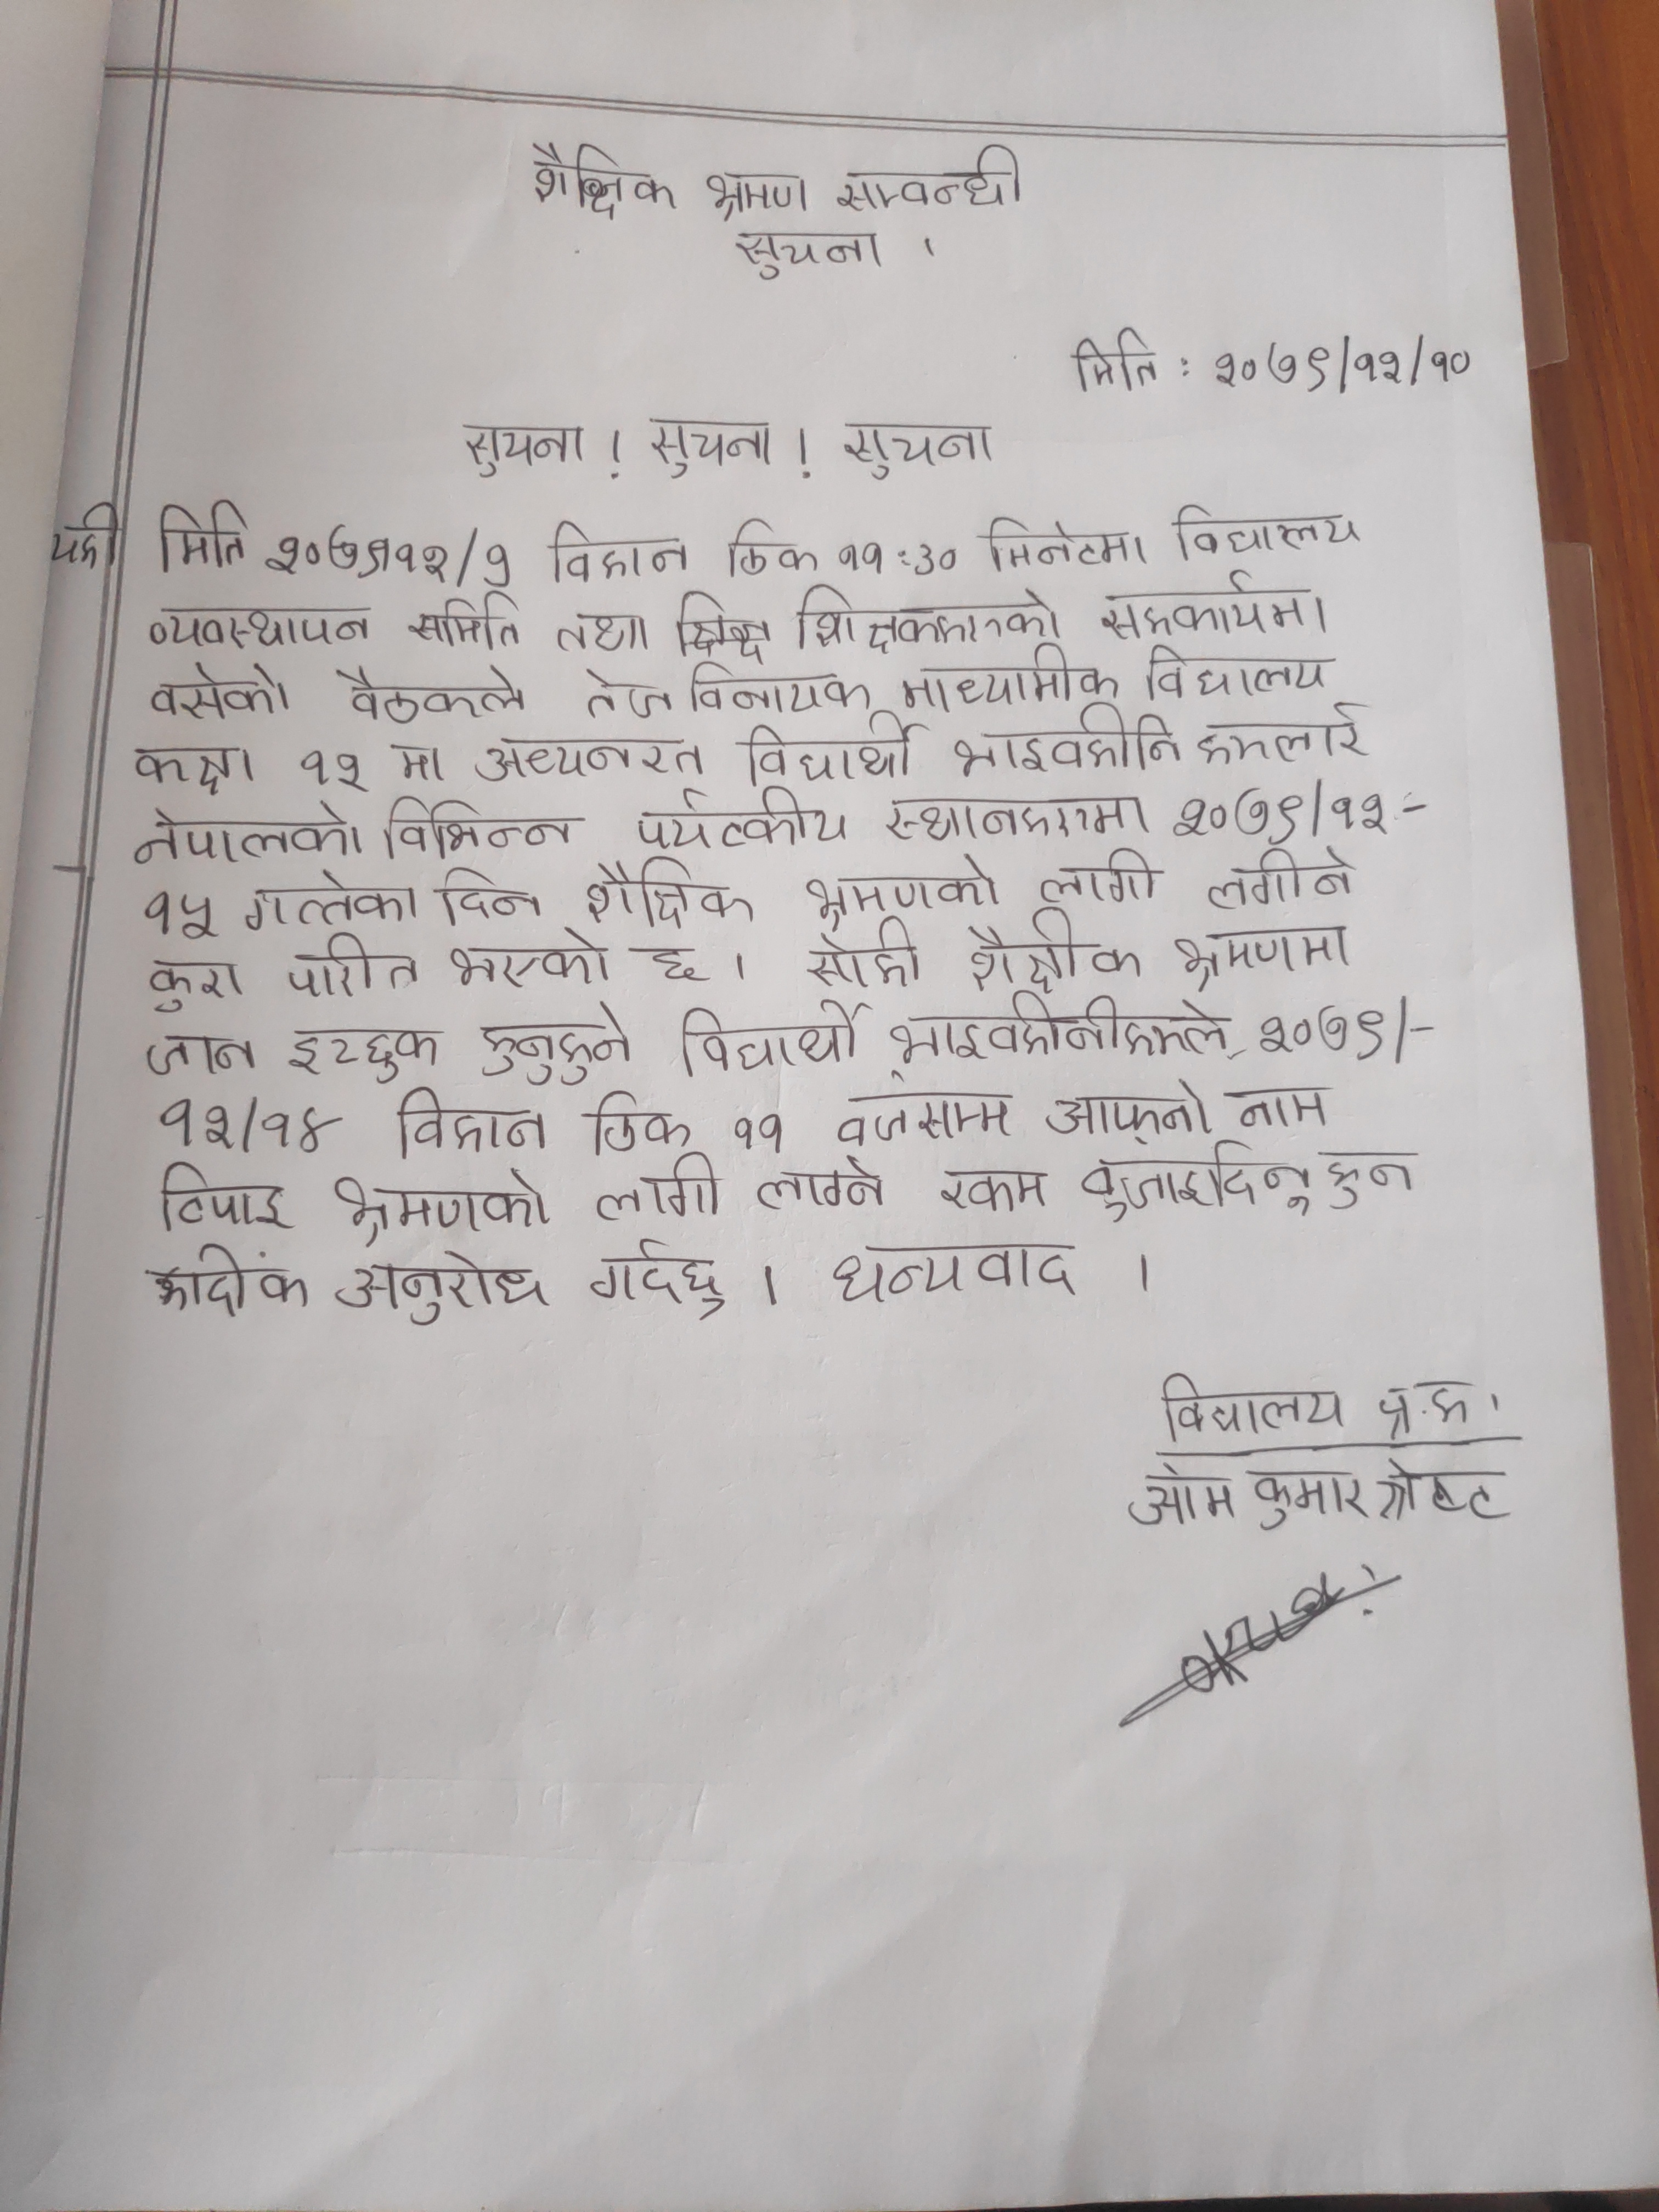text: (892, 995, 1239, 1068), (871, 777, 1162, 846), (1093, 564, 1335, 643), (328, 1245, 551, 1327), (784, 583, 1063, 648), (945, 709, 1192, 780), (824, 1237, 1079, 1305), (127, 798, 373, 867), (1204, 331, 1476, 394), (328, 1172, 561, 1244), (1169, 773, 1398, 845), (836, 139, 1037, 219), (1066, 1160, 1314, 1224), (892, 643, 1127, 709), (256, 529, 509, 590), (819, 1075, 1014, 1151), (380, 791, 589, 862), (634, 787, 849, 855), (1166, 491, 1368, 563), (138, 590, 371, 651), (1152, 1372, 1351, 1444), (523, 134, 685, 221), (796, 853, 1007, 920), (664, 1001, 861, 1071), (333, 660, 528, 730), (143, 1238, 312, 1318), (580, 1233, 734, 1320), (962, 911, 1143, 984), (584, 857, 762, 930), (1162, 923, 1359, 988), (683, 655, 871, 721), (476, 1007, 627, 1087), (1187, 709, 1371, 773), (471, 732, 706, 782), (734, 721, 920, 782), (1037, 1076, 1213, 1141), (143, 1158, 293, 1233), (983, 507, 1152, 573), (242, 869, 420, 932), (282, 930, 427, 1007), (443, 928, 612, 993), (394, 1087, 551, 1155), (1368, 1454, 1516, 1526), (545, 517, 697, 585), (833, 413, 992, 477), (1129, 1456, 1248, 1541), (159, 1097, 340, 1153), (1136, 643, 1328, 695), (1197, 848, 1359, 907), (143, 662, 289, 726), (282, 1026, 450, 1082), (732, 225, 885, 282), (798, 923, 924, 993), (591, 1160, 725, 1224), (430, 859, 552, 928), (645, 413, 775, 477), (460, 418, 589, 482), (150, 495, 254, 573), (124, 737, 256, 798), (1028, 848, 1164, 907), (1251, 1001, 1387, 1061), (1251, 1467, 1366, 1536), (749, 1165, 901, 1217), (403, 592, 525, 653), (1370, 1371, 1481, 1437), (1068, 322, 1166, 394), (143, 946, 242, 1015), (138, 1028, 258, 1085), (575, 662, 687, 721), (932, 1162, 1051, 1217), (721, 516, 826, 578), (708, 165, 816, 225), (835, 533, 958, 583), (1314, 1151, 1420, 1209), (589, 1099, 697, 1155), (551, 601, 655, 651), (716, 1101, 798, 1162), (1237, 1087, 1340, 1134), (58, 503, 124, 575), (143, 885, 221, 942), (647, 939, 721, 995), (291, 747, 373, 796), (392, 733, 455, 784)
